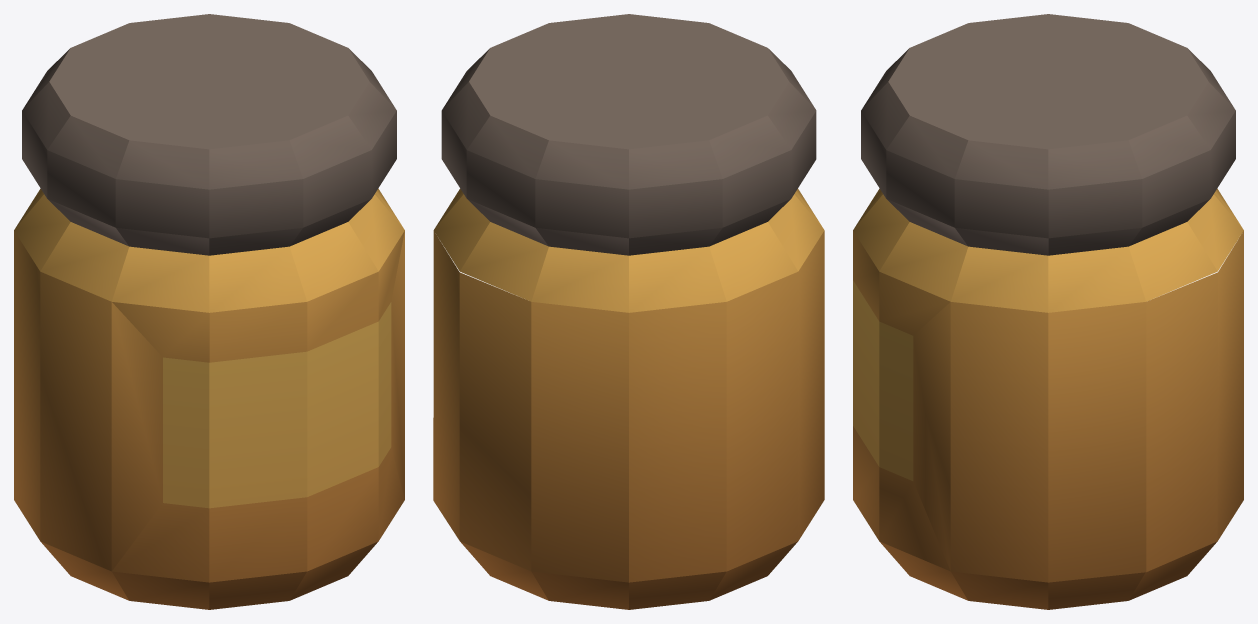
Rendered from jar_D_medium_flat.gltf.
3 renders of one model, left to right at view 1: azimuth 30°, elevation 25°; view 2: azimuth 150°, elevation 25°; view 3: azimuth 270°, elevation 25°, orthographic.
Visible parts, largest first — view 1: jar_D_medium; view 2: jar_D_medium; view 3: jar_D_medium.
Boxes of the visible parts, x1,y1,x2,y2 form: jar_D_medium: (14,14,404,609); jar_D_medium: (433,14,824,609); jar_D_medium: (853,14,1243,609).
Size of the model in its own units: 0.5 by 0.65 by 0.5.
Materials: 1 (1 with a texture image).
